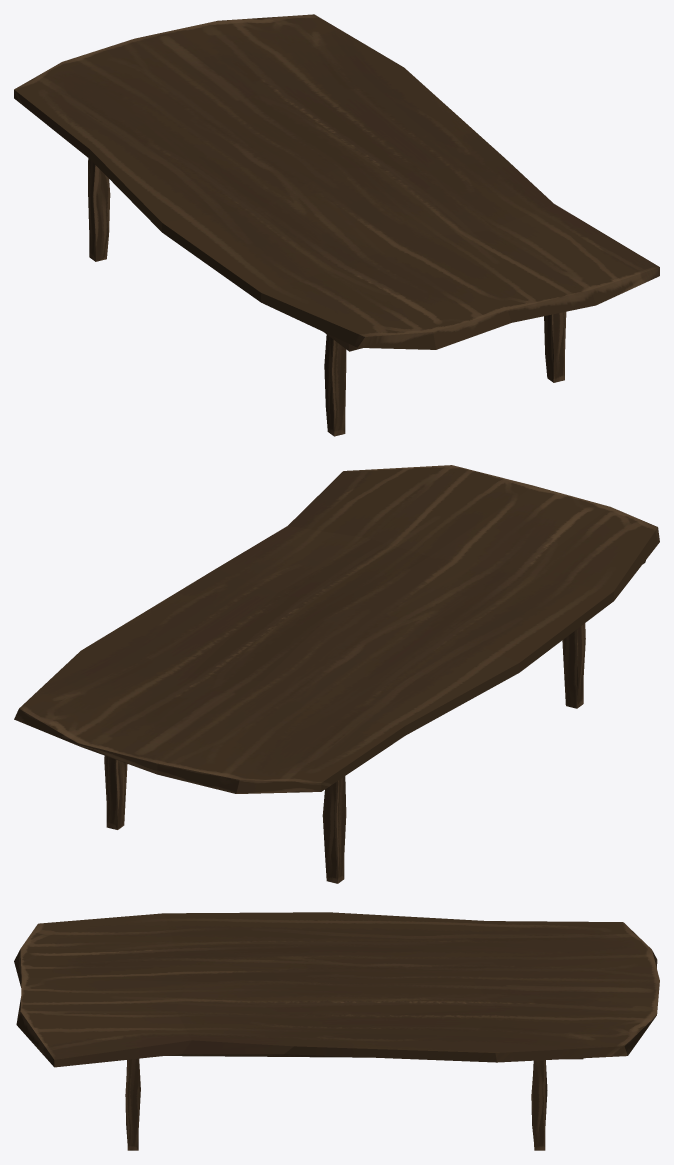
Rendered from TableLong_Geo.fbx.
3 renders of one model, top to bottom at view 1: azimuth 30°, elevation 25°; view 2: azimuth 150°, elevation 25°; view 3: azimuth 270°, elevation 25°, orthographic. The views are drawn at different scales.
Visible parts, largest first — view 1: TableLong_Geo; view 2: TableLong_Geo; view 3: TableLong_Geo.
Boxes of the visible parts, x1=… form: TableLong_Geo: x1=14, y1=14, x2=659, y2=436; TableLong_Geo: x1=14, y1=465, x2=659, y2=883; TableLong_Geo: x1=14, y1=912, x2=659, y2=1150.
Bounding box in the file's own units: 211 × 86.41 × 407.
